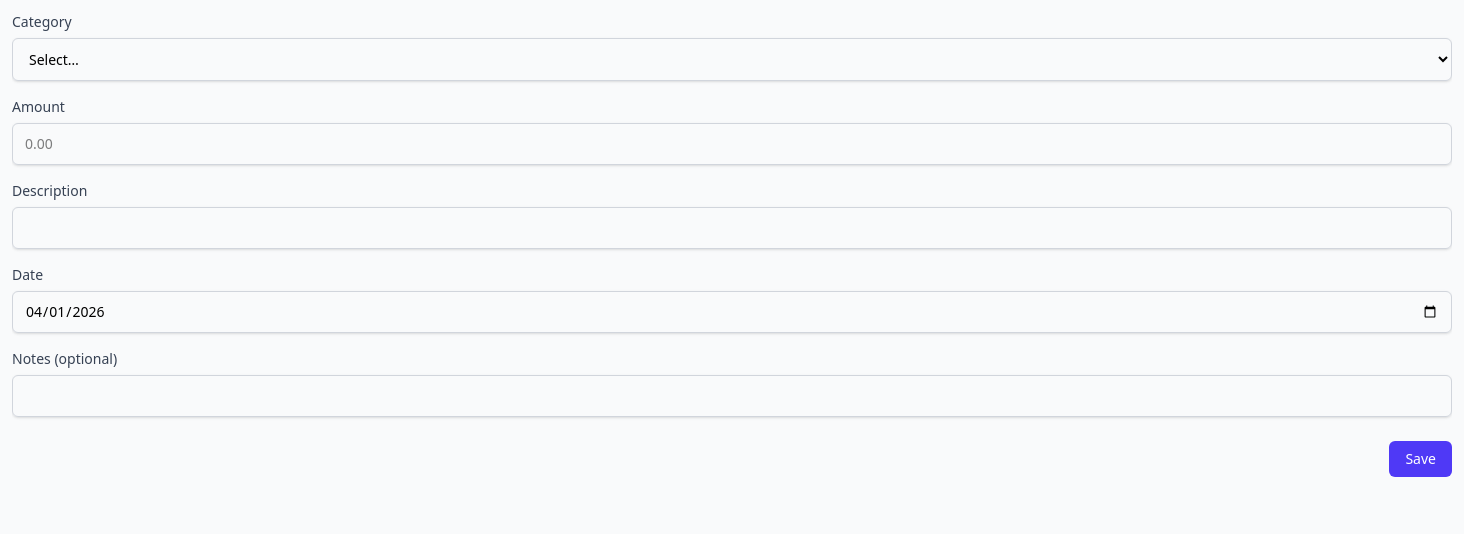
Test case: ExpenseForm › shows error when amount is 0
Type "Coffee" into the field labelled "Description" at (732, 228), box [12,207,1452,249]
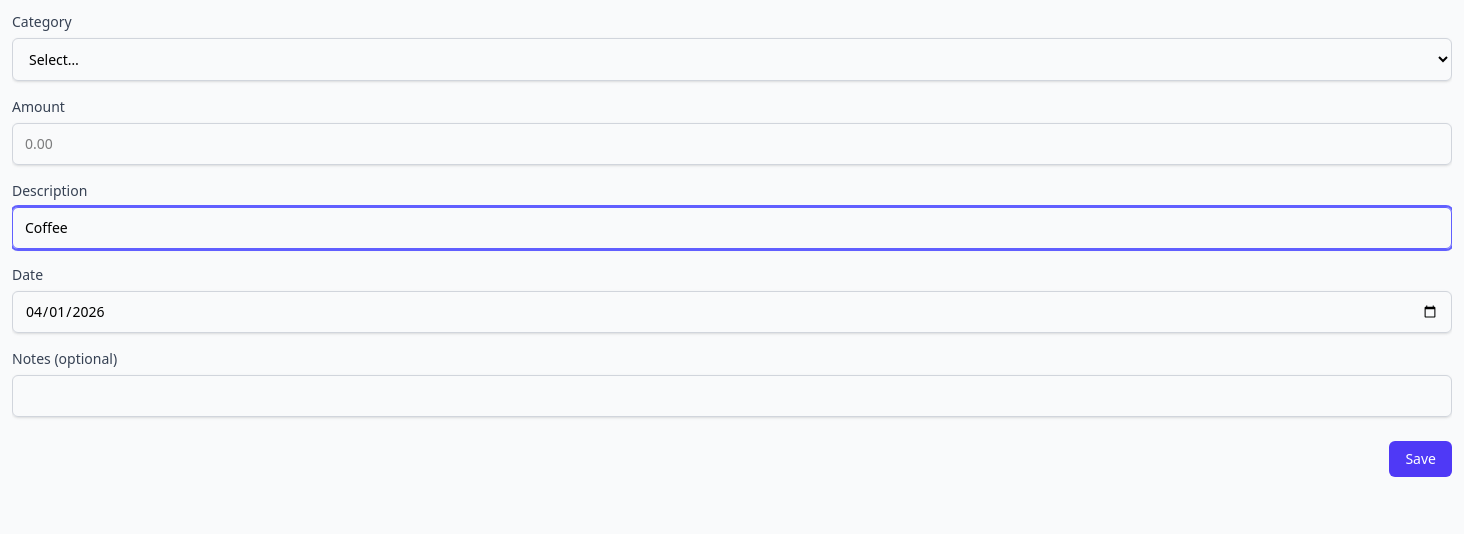
Type "0" into the number field labelled "Amount" at (732, 144), box [12,123,1452,165]
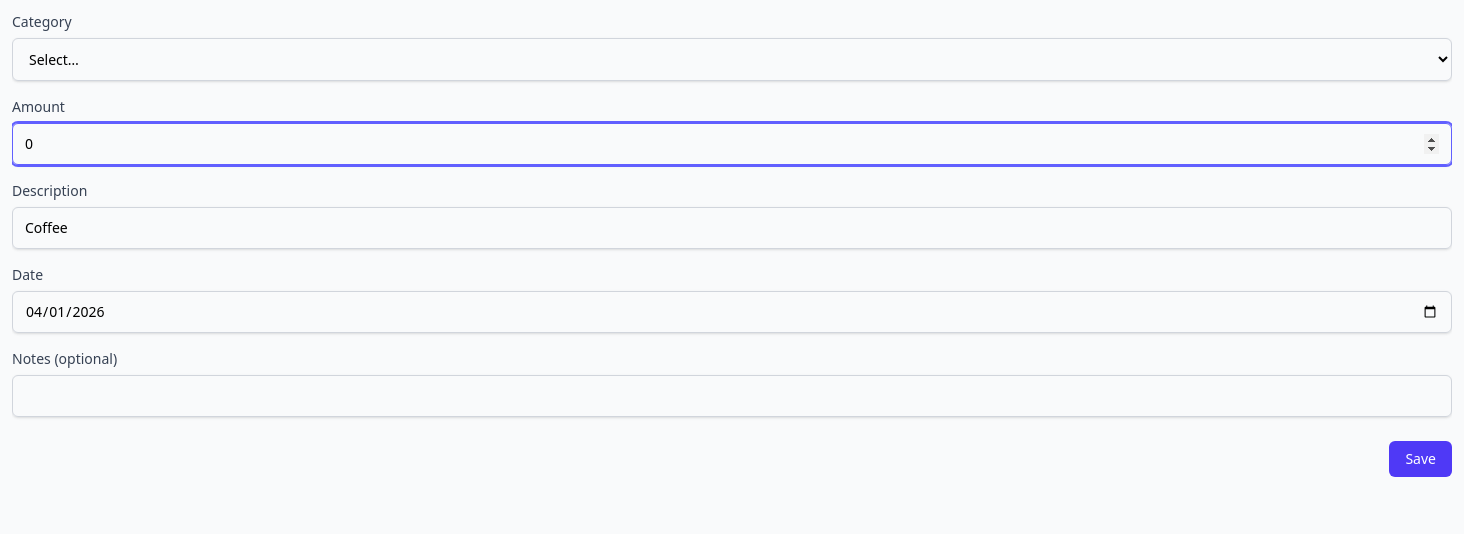
Click the button "Save" at (1421, 459), box [1389,441,1452,477]
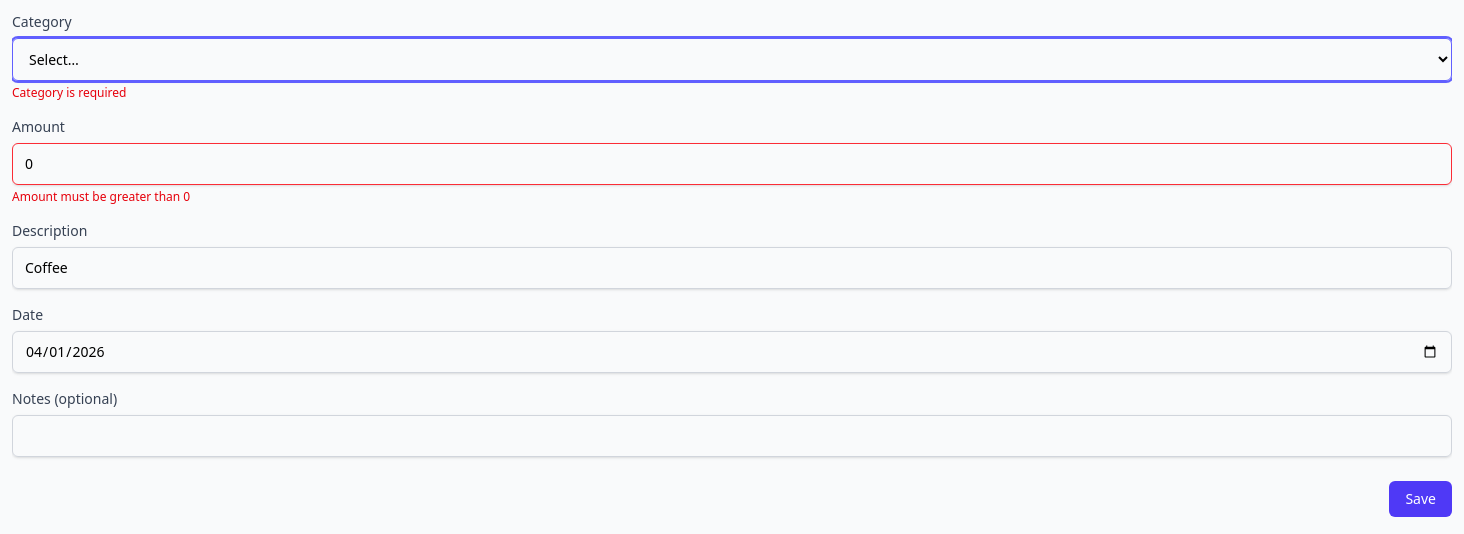
expect the text "Amount must be greater than 0" is shown: met, box [12,188,190,205]
